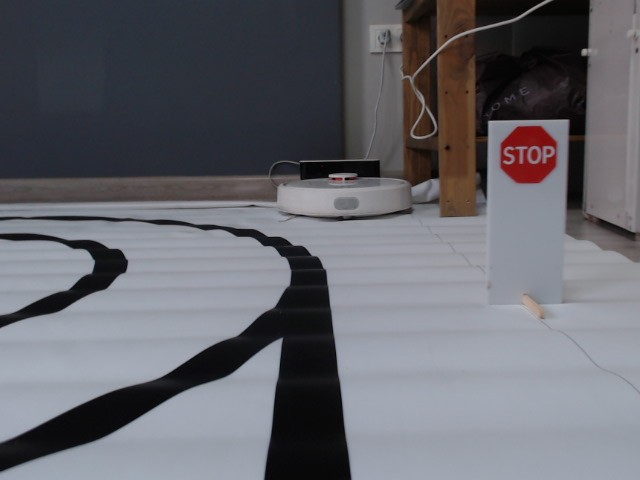Stop: (501, 126, 557, 184)
